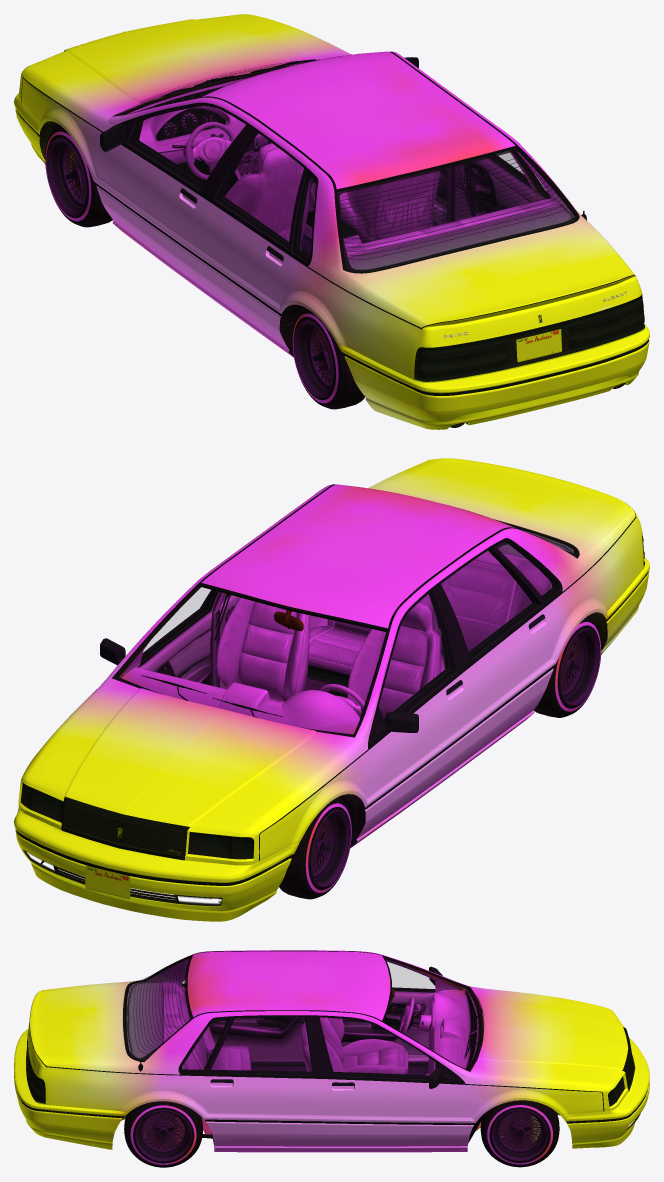
Rendered from primo2.glb.
3 renders of one model, top to bottom at view 1: azimuth 30°, elevation 25°; view 2: azimuth 150°, elevation 25°; view 3: azimuth 270°, elevation 25°, orthographic. The views are drawn at different scales.
Parts seen in each view (by area): view 1: bodyshell, boot, windscreen_r, bonnet, bumper_r, door_dside_f, door_dside_r, misc_k, misc_q, misc_l, window_lf, window_lr (+10 smaller); view 2: bodyshell, bonnet, misc_l, misc_w, misc_k, door_dside_f, boot, door_dside_r, wing_lf, window_lr, window_lf, wheel_lf (+10 smaller); view 3: bodyshell, bonnet, door_pside_f, door_pside_r, boot, misc_l, window_rr, window_rf, windscreen_r, wing_rf, wheel_rf, wheel_rr (+11 smaller).
Part boxes in pixels (bbox=[...]): bodyshell: bbox=[18, 51, 644, 382]; boot: bbox=[350, 217, 636, 346]; windscreen_r: bbox=[337, 148, 576, 271]; bonnet: bbox=[28, 14, 349, 116]; bumper_r: bbox=[337, 323, 649, 429]; door_dside_f: bbox=[96, 102, 251, 293]; door_dside_r: bbox=[194, 126, 305, 347]; misc_k: bbox=[225, 143, 439, 250]; misc_q: bbox=[344, 198, 574, 271]; misc_l: bbox=[128, 77, 572, 256]; window_lf: bbox=[129, 106, 244, 188]; window_lr: bbox=[216, 132, 302, 246]; bodyshell: bbox=[18, 459, 644, 865]; bonnet: bbox=[27, 678, 354, 833]; misc_l: bbox=[119, 556, 552, 734]; misc_w: bbox=[14, 808, 299, 921]; misc_k: bbox=[216, 598, 440, 719]; door_dside_f: bbox=[361, 585, 471, 835]; boot: bbox=[370, 458, 632, 554]; door_dside_r: bbox=[435, 546, 554, 766]; wing_lf: bbox=[241, 737, 369, 862]; window_lr: bbox=[442, 550, 538, 657]; window_lf: bbox=[379, 593, 455, 721]; wheel_lf: bbox=[279, 797, 351, 899]; bodyshell: bbox=[26, 950, 628, 1152]; bonnet: bbox=[470, 987, 628, 1085]; door_pside_f: bbox=[311, 1015, 470, 1146]; door_pside_r: bbox=[202, 1015, 327, 1146]; boot: bbox=[28, 981, 136, 1074]; misc_l: bbox=[145, 958, 478, 1075]; window_rr: bbox=[210, 1017, 312, 1074]; window_rf: bbox=[319, 1018, 435, 1078]; windscreen_r: bbox=[125, 956, 191, 1060]; wing_rf: bbox=[460, 1072, 612, 1151]; wheel_rf: bbox=[480, 1100, 559, 1167]; wheel_rr: bbox=[124, 1101, 202, 1167].
Size of the model in its own units: 2.16 by 1.33 by 5.24.
27 materials, 27 textured.
